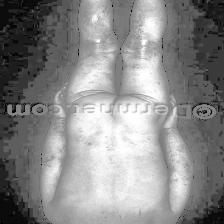Non-Cancerous Skin Condition: (68, 0, 116, 99), (43, 114, 90, 203), (123, 0, 167, 95), (154, 122, 192, 223)
